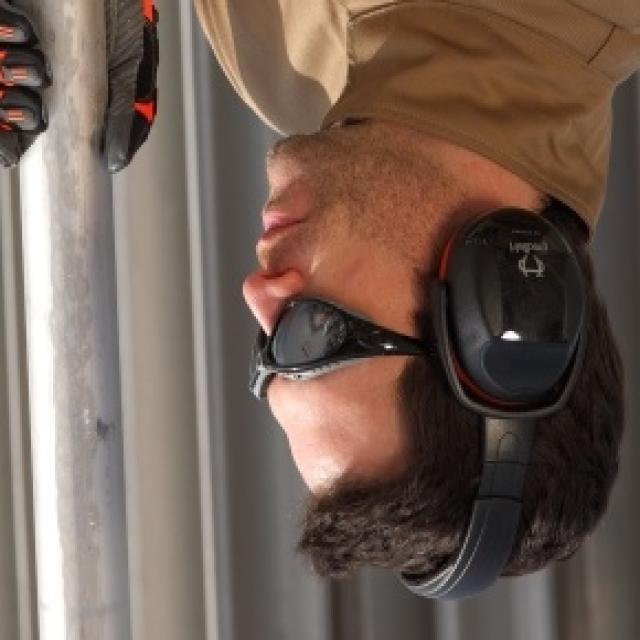Ear-Protection: (394, 202, 597, 604)
Glasses: (242, 284, 437, 404)
